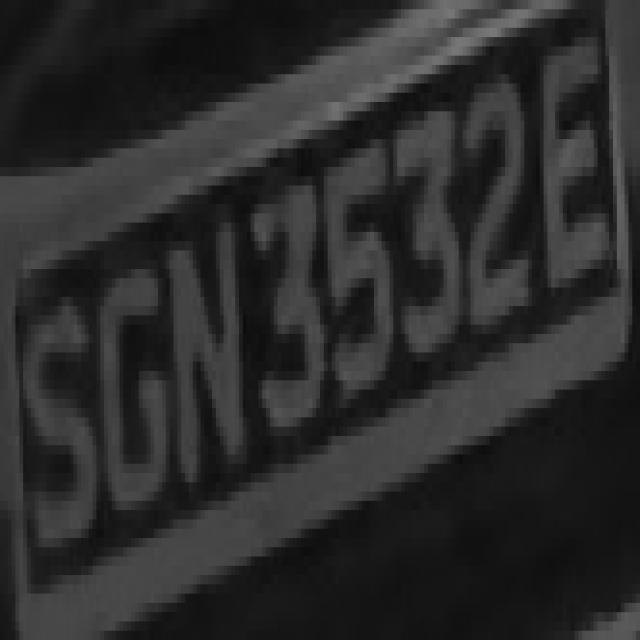2: (447, 65, 528, 371)
3: (374, 93, 466, 380), (246, 176, 328, 455)
5: (308, 130, 389, 427)
E: (528, 37, 621, 315)
G: (88, 222, 166, 566)
N: (154, 176, 254, 529)
S: (12, 288, 96, 584)
